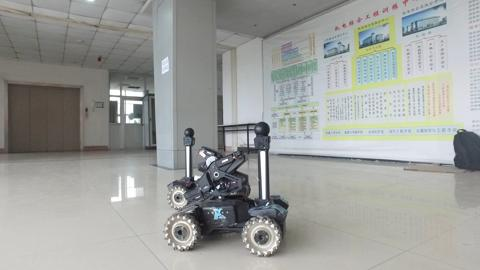chariot: (158, 119, 296, 252), (165, 122, 240, 209)
